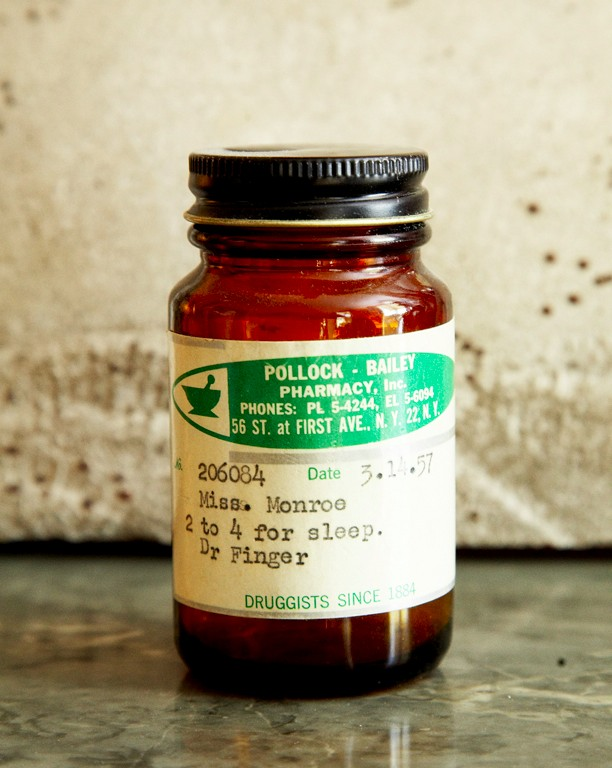pill bottle: (162, 135, 462, 709)
